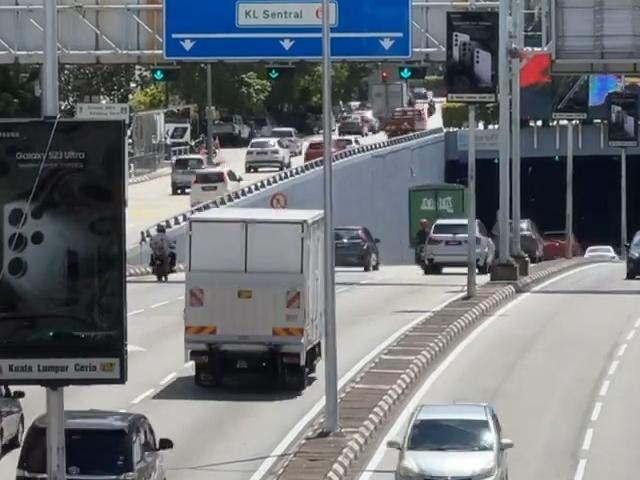car: (385, 404, 513, 480), (430, 215, 495, 278), (0, 363, 26, 468), (325, 225, 388, 268), (187, 168, 242, 212), (168, 154, 206, 193), (244, 137, 290, 169), (623, 225, 640, 285), (302, 142, 335, 167), (269, 129, 300, 152), (339, 114, 368, 136)
motorcycle: (144, 224, 178, 288)
truck: (182, 207, 328, 395), (402, 180, 479, 261), (366, 86, 408, 125)
van: (19, 406, 171, 480)
